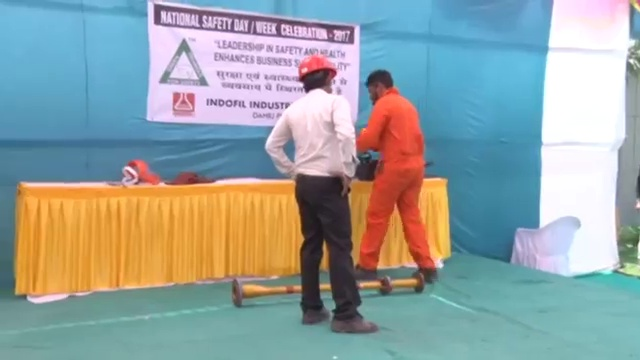helmet: (297, 53, 337, 78)
helmet_off: (362, 68, 396, 103)
helmet_on: (295, 53, 337, 96)
person: (263, 55, 380, 335), (351, 68, 443, 285)
